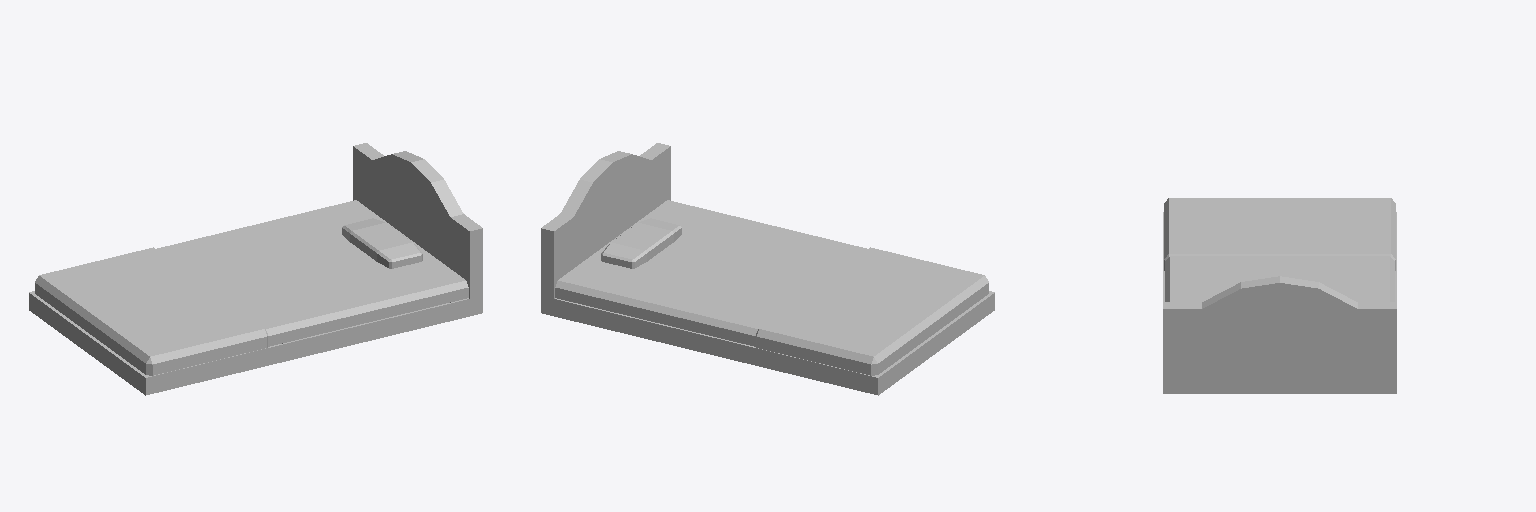
File: bed.obj
3 renders of one model, left to right at view 1: azimuth 30°, elevation 25°; view 2: azimuth 150°, elevation 25°; view 3: azimuth 270°, elevation 25°, orthographic.
Visible parts, largest first — view 1: pCube4, pCube2, pCube3, pCube1, pCube5; view 2: pCube4, pCube2, pCube3, pCube1, pCube5; view 3: pCube3, pCube2, pCube4, pCube1.
Part boxes in pixels (x1,y1,x2,y2): pCube4: (157, 200, 468, 346); pCube2: (35, 247, 267, 375); pCube3: (353, 143, 482, 298); pCube1: (29, 291, 482, 395); pCube5: (342, 218, 422, 268); pCube4: (555, 200, 866, 346); pCube2: (756, 247, 988, 375); pCube3: (541, 143, 670, 298); pCube1: (541, 291, 994, 395); pCube5: (601, 218, 681, 268); pCube3: (1163, 276, 1396, 375); pCube2: (1164, 198, 1395, 270); pCube4: (1165, 256, 1394, 301); pCube1: (1163, 212, 1396, 393).
Bounding box in the file's own units: 10 × 3.15 × 6.